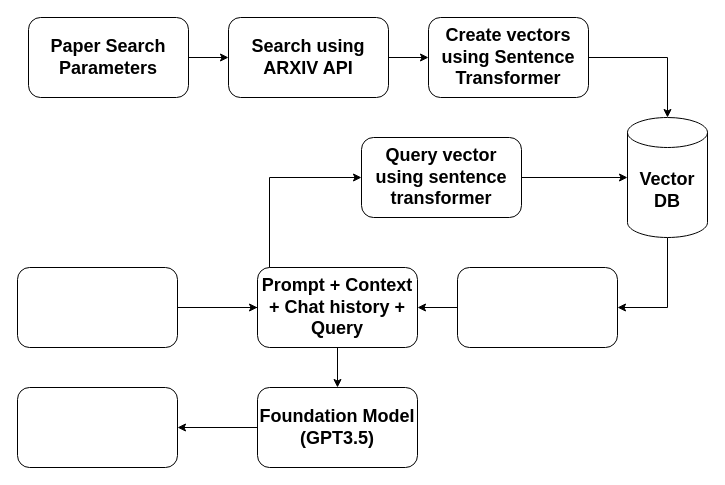
The diagram is 725 pixels wide and 485 high, and some of its shapes have lost their labels. Here are the shapes that lost their labels. From the top down, the centre of each, then its label:
At pixel 97 307: "Query + Chat history".
At pixel 537 307: "Similar vectors".
At pixel 97 427: "Response".
